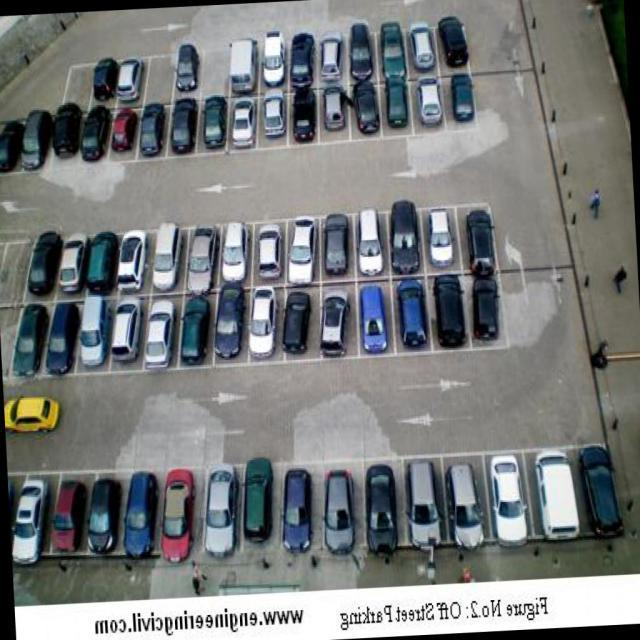car: (526, 440, 589, 546), (323, 456, 373, 566), (481, 447, 534, 547), (363, 451, 411, 560), (401, 454, 449, 558), (440, 450, 490, 546), (162, 466, 207, 572), (238, 458, 282, 566), (280, 464, 328, 562), (126, 467, 168, 568), (203, 471, 246, 568), (19, 468, 62, 560), (54, 469, 94, 567), (581, 440, 618, 541), (93, 471, 132, 561), (430, 274, 472, 352), (357, 282, 398, 359), (384, 200, 424, 278), (143, 288, 183, 364), (321, 282, 362, 356), (285, 290, 325, 365), (21, 105, 59, 182), (317, 210, 357, 282), (164, 95, 204, 167), (425, 198, 462, 274), (248, 288, 283, 367), (56, 228, 93, 300), (356, 204, 390, 282), (286, 212, 322, 284), (396, 276, 432, 348), (116, 223, 153, 293), (78, 297, 108, 382), (216, 286, 246, 371), (86, 227, 122, 297), (30, 230, 64, 304), (110, 296, 144, 369), (253, 216, 288, 286), (316, 84, 356, 144), (184, 290, 214, 368), (21, 300, 48, 386), (50, 299, 80, 376), (470, 276, 502, 348), (380, 76, 414, 142), (286, 86, 320, 152), (254, 90, 288, 156), (150, 228, 186, 290), (350, 74, 383, 140), (54, 104, 87, 170), (221, 216, 255, 280), (198, 98, 232, 160), (190, 222, 220, 292), (463, 204, 494, 268), (82, 111, 113, 175), (256, 34, 290, 92), (377, 22, 411, 78), (441, 74, 474, 130), (0, 110, 27, 177), (109, 108, 142, 162), (406, 24, 439, 77), (348, 24, 378, 82), (410, 80, 442, 134), (313, 33, 349, 81), (442, 21, 474, 74), (230, 36, 258, 96), (226, 100, 256, 156), (178, 43, 204, 99), (120, 59, 148, 110), (290, 28, 316, 80), (93, 60, 121, 106), (9, 474, 21, 562)
free: (60, 57, 100, 112), (2, 241, 27, 311), (0, 306, 18, 384), (202, 47, 230, 97), (146, 58, 173, 105)
